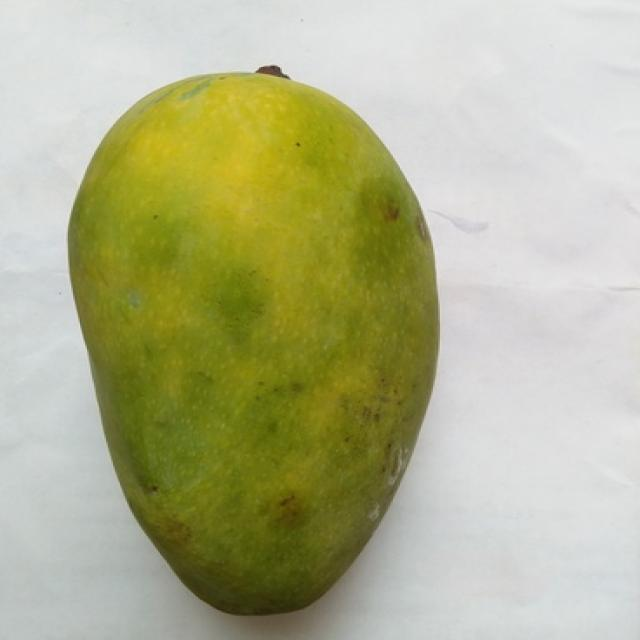Mango: (70, 73, 433, 614)
